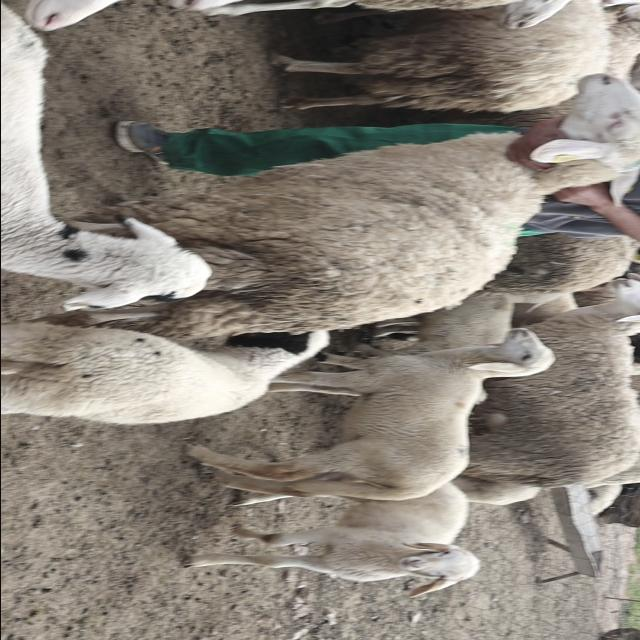Score_2: (31, 74, 640, 339)
